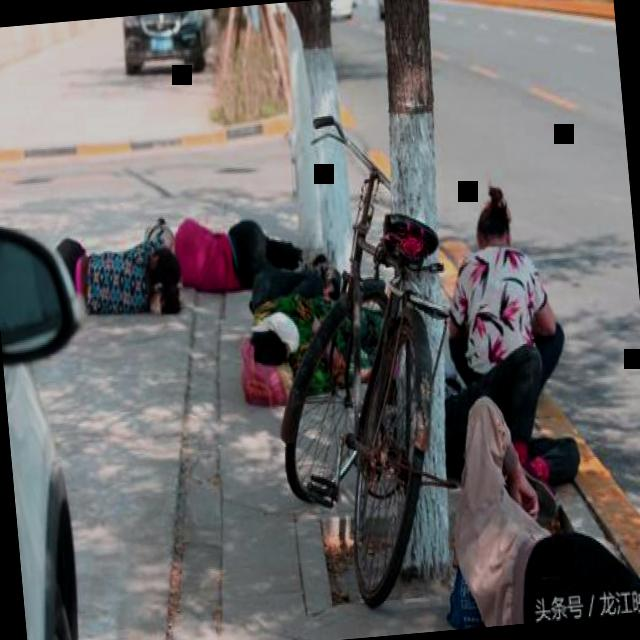Fall-Detected: (222, 264, 336, 406)
